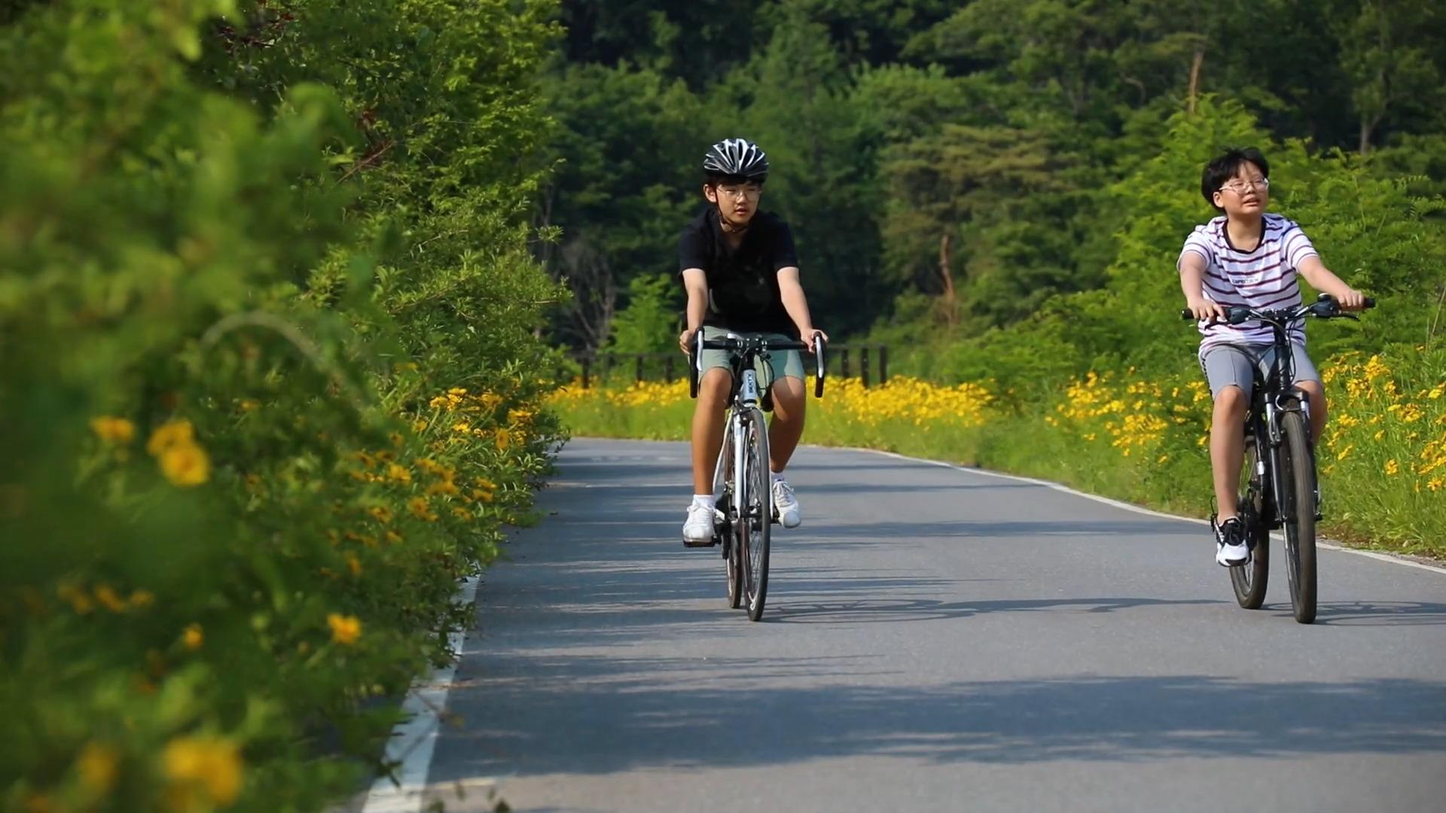bicyclist: (1178, 145, 1374, 624), (675, 134, 831, 624)
helmet: (702, 135, 769, 237)
no-helmet: (1202, 145, 1271, 219)
